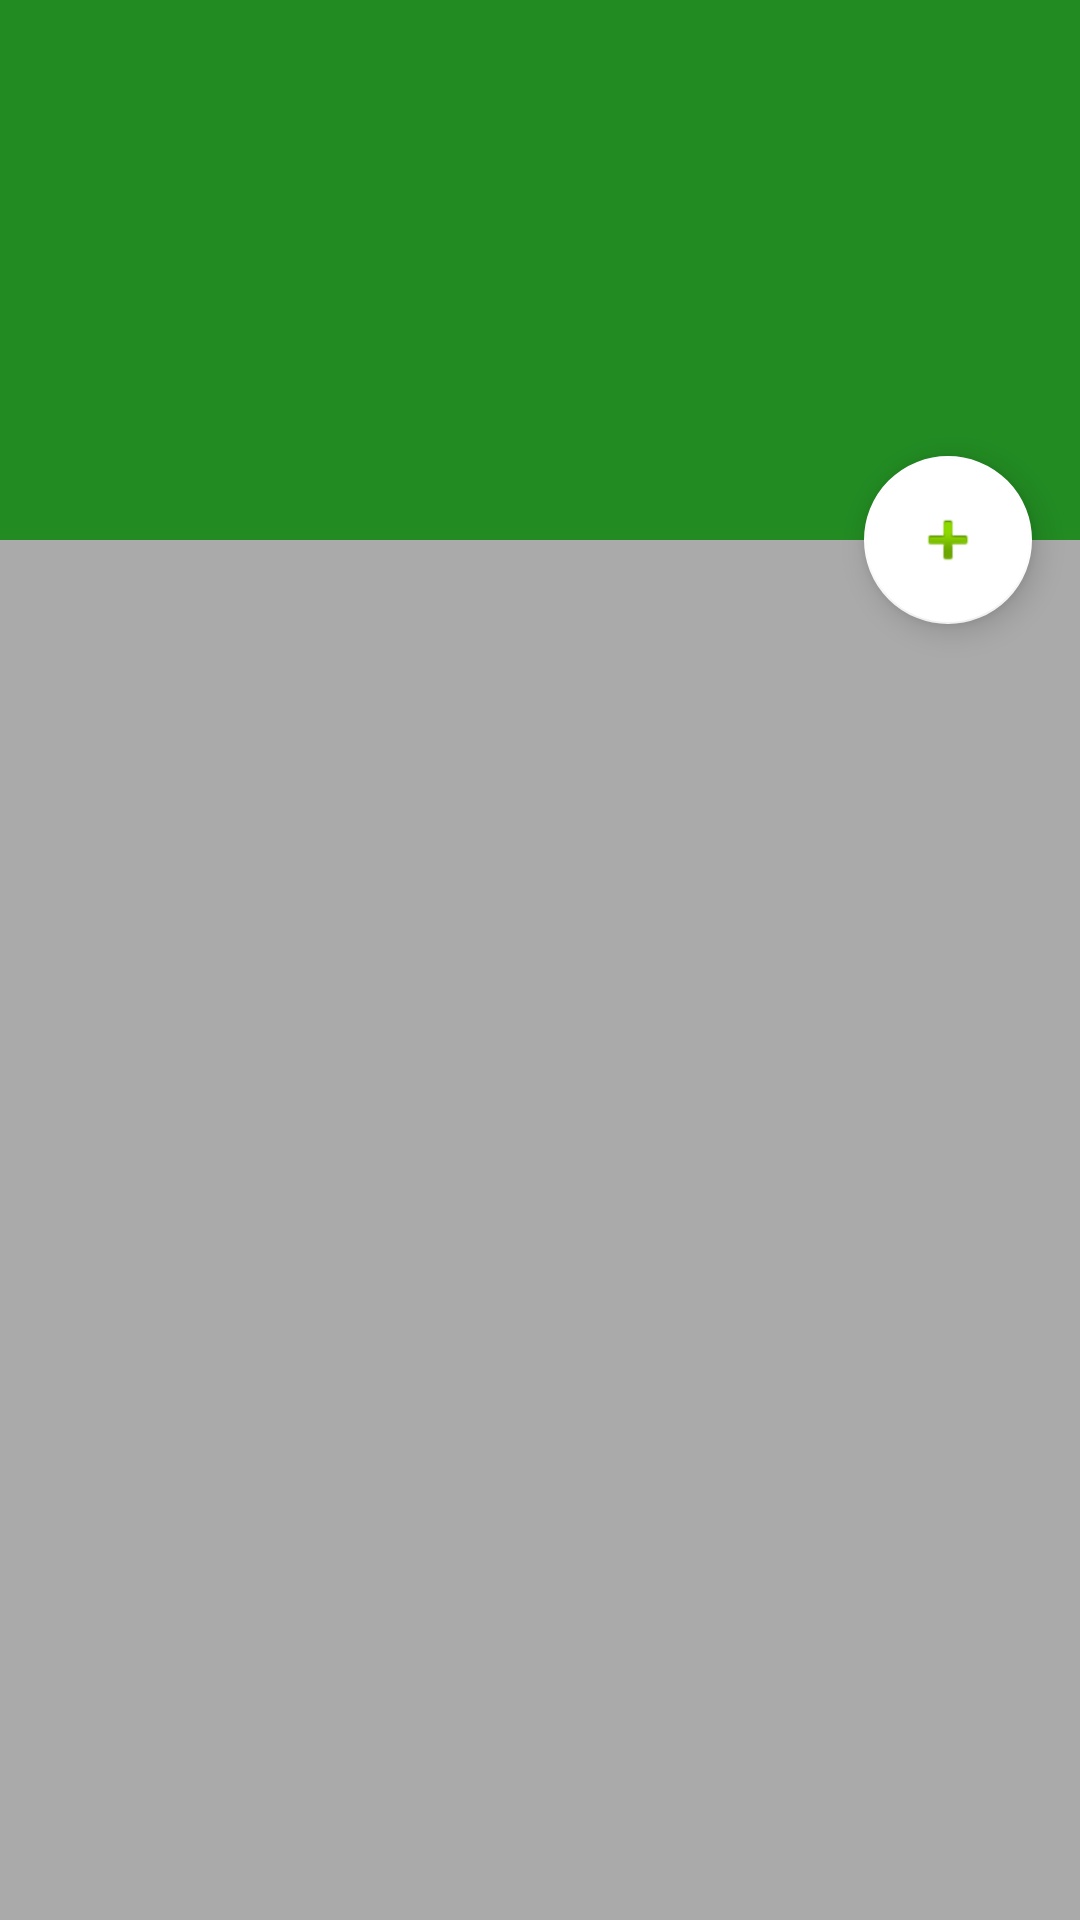

Named icons in this screenshot (1080w x 1920h) and their centers, (x,y):
add: (948,540)
